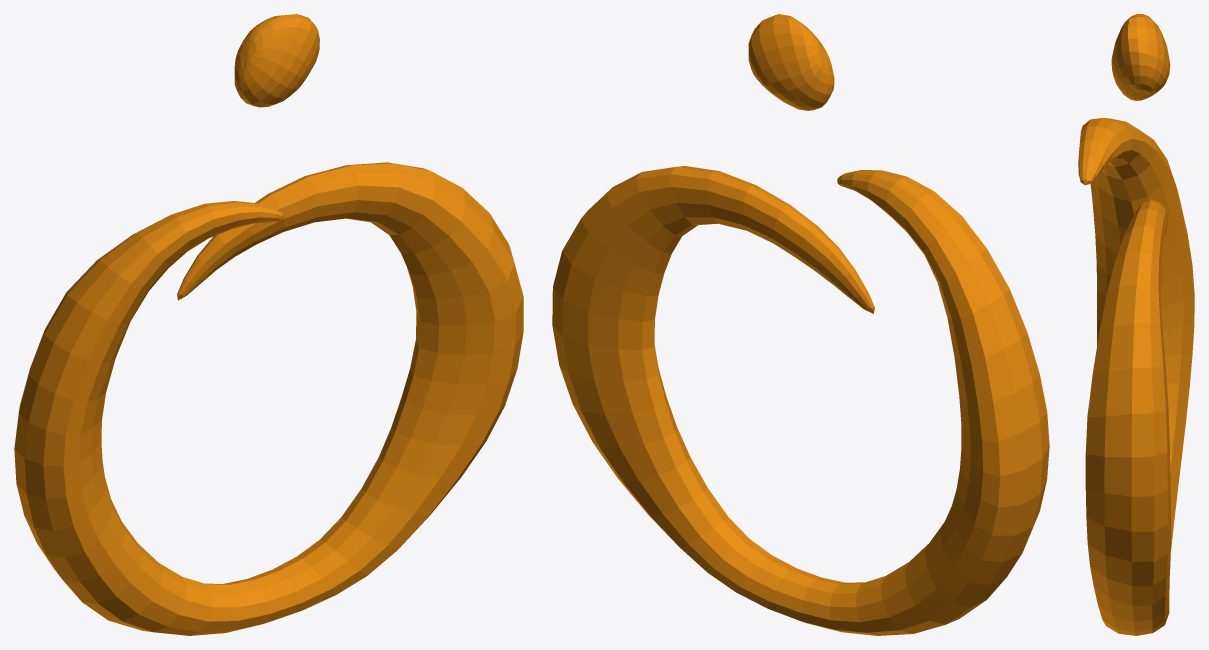
File: ozero-smooth.glb
The picture shows the model from 3 angles, left to right: view 1: azimuth 30°, elevation 25°; view 2: azimuth 150°, elevation 25°; view 3: azimuth 270°, elevation 25°; orthographic projection. The views are drawn at different scales.
Parts seen in each view (by area): view 1: ozero_body, ozero_dot; view 2: ozero_body, ozero_dot; view 3: ozero_body, ozero_dot.
Boxes of the visible parts, left/top/right/bottom form: ozero_body: left=14, top=162, right=523, bottom=635; ozero_dot: left=234, top=14, right=319, bottom=107; ozero_body: left=552, top=166, right=1049, bottom=635; ozero_dot: left=748, top=14, right=834, bottom=110; ozero_body: left=1078, top=118, right=1194, bottom=635; ozero_dot: left=1111, top=14, right=1170, bottom=100.
Bounding box in the file's own units: 4.06 × 4.74 × 0.8201.
